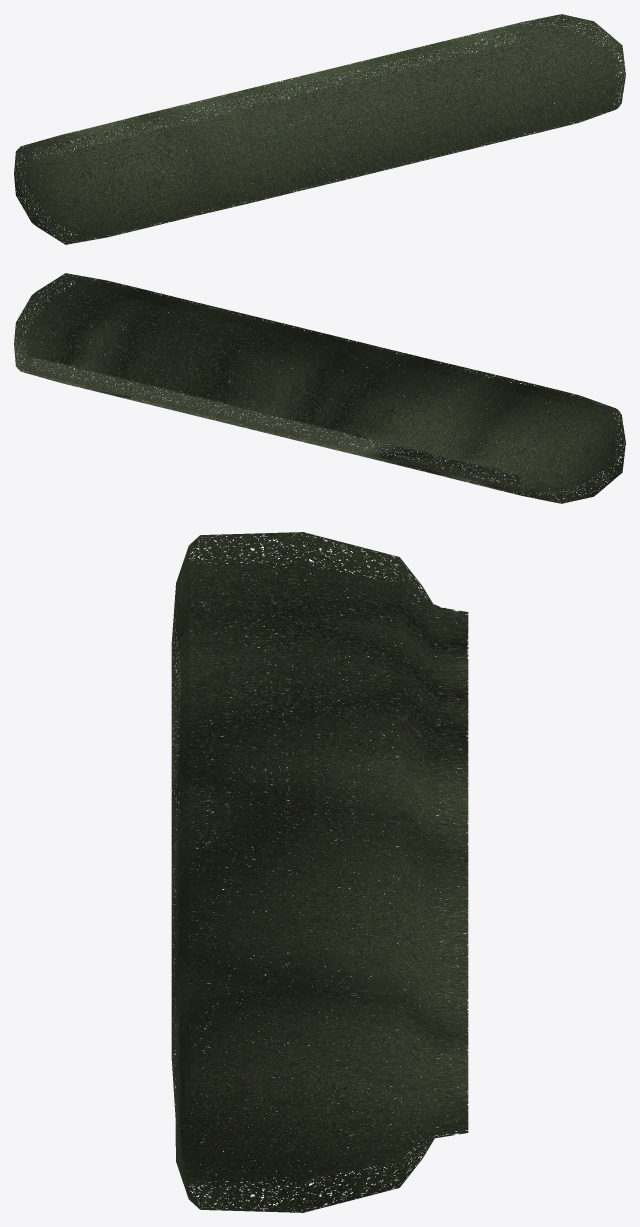
The model's file is nt_2020_foliage_hedge_boxy_3_set_LOD1.obj.
3 views of the same model, one above another, from view 1: azimuth 30°, elevation 25°; view 2: azimuth 150°, elevation 25°; view 3: azimuth 270°, elevation 25° (orthographic). The views are drawn at different scales.
Parts seen in each view (by area): view 1: mtl_p6_foliage_hedge2, mtl_p6_foliage_hedge_no_alpha, mtl_p6_foliage_hedge_edge; view 2: mtl_p6_foliage_hedge2, mtl_p6_foliage_hedge_no_alpha, mtl_p6_foliage_hedge_edge; view 3: mtl_p6_foliage_hedge2, mtl_p6_foliage_hedge_no_alpha, mtl_p6_foliage_hedge_edge.
Boxes of the visible parts, x1,y1,x2,y2 form: mtl_p6_foliage_hedge2: (14, 14, 625, 244); mtl_p6_foliage_hedge_no_alpha: (26, 26, 616, 232); mtl_p6_foliage_hedge_edge: (68, 49, 618, 241); mtl_p6_foliage_hedge2: (14, 273, 625, 503); mtl_p6_foliage_hedge_no_alpha: (26, 285, 616, 491); mtl_p6_foliage_hedge_edge: (70, 277, 618, 467); mtl_p6_foliage_hedge2: (171, 532, 468, 1212); mtl_p6_foliage_hedge_no_alpha: (180, 563, 467, 1181); mtl_p6_foliage_hedge_edge: (175, 549, 189, 1195).
Size of the model in its own units: 1023 by 122 by 230.
